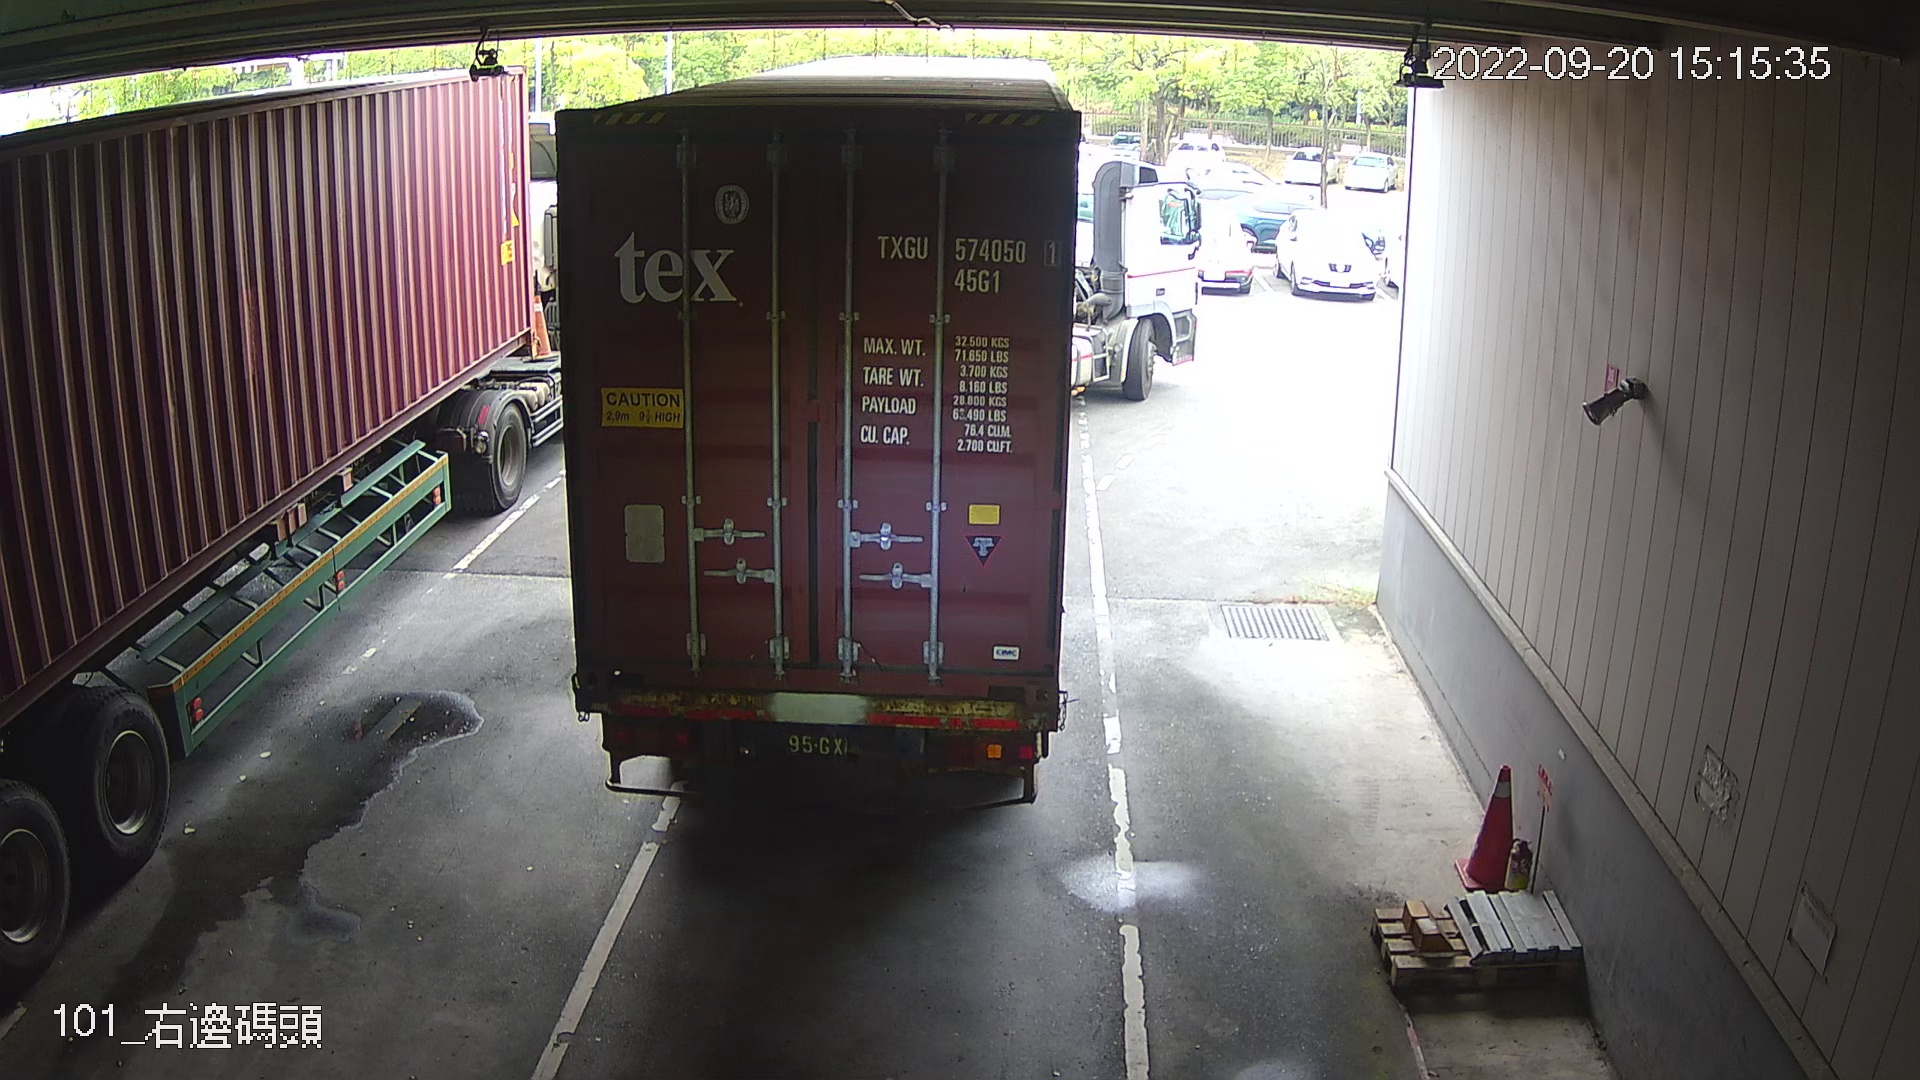container: (866, 223, 1069, 298)
